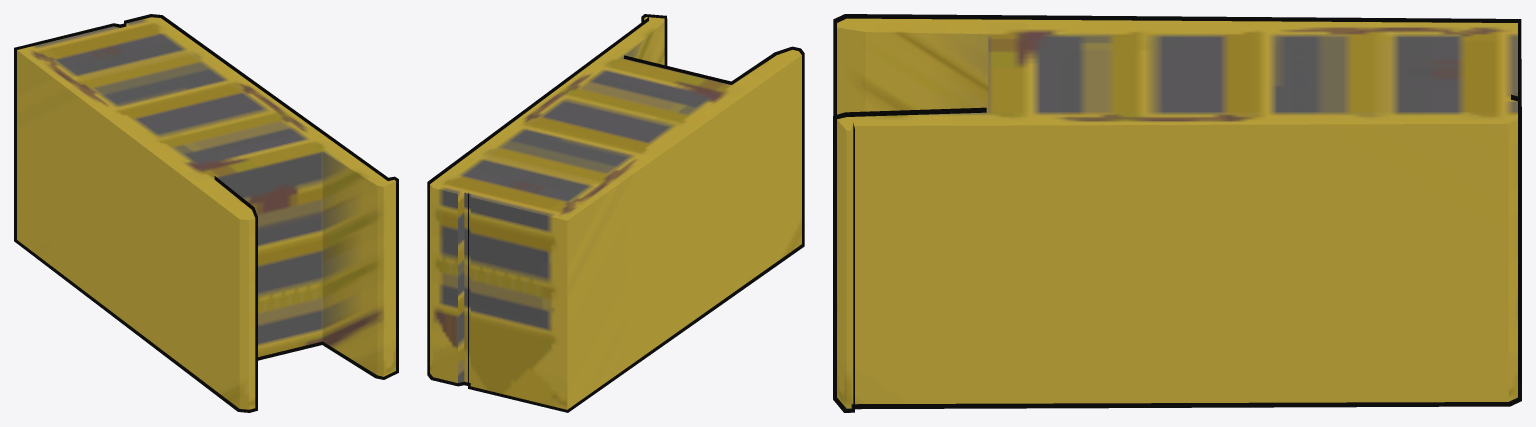
File: Building_AncientHatchExit_Things_Building_AncientHatchExit_AncientHatchExit_Ladder.glb
3 renders of one model, left to right at view 1: azimuth 30°, elevation 25°; view 2: azimuth 150°, elevation 25°; view 3: azimuth 270°, elevation 25°, orthographic. The views are drawn at different scales.
Visible parts, largest first — view 1: Body, Outline; view 2: Body, Outline; view 3: Body, Outline.
Part boxes in pixels (<box>): Body: <box>17,17,395,409</box>; Outline: <box>14,14,398,412</box>; Body: <box>430,17,801,409</box>; Outline: <box>427,14,804,412</box>; Body: <box>837,18,1517,408</box>; Outline: <box>833,14,1521,412</box>.
Size of the model in its own units: 0.4013 by 0.4667 by 1.02.
2 materials, 1 textured.
